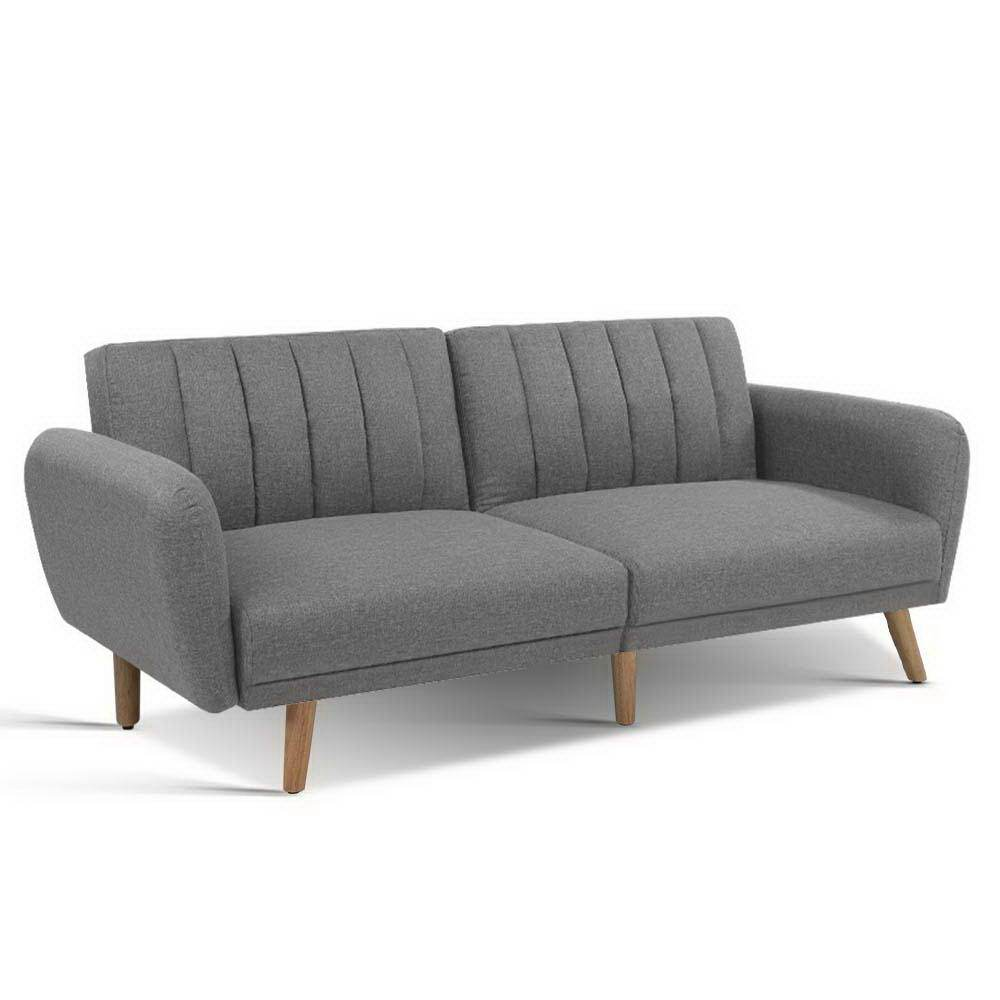sova: (1, 337, 1000, 729)
